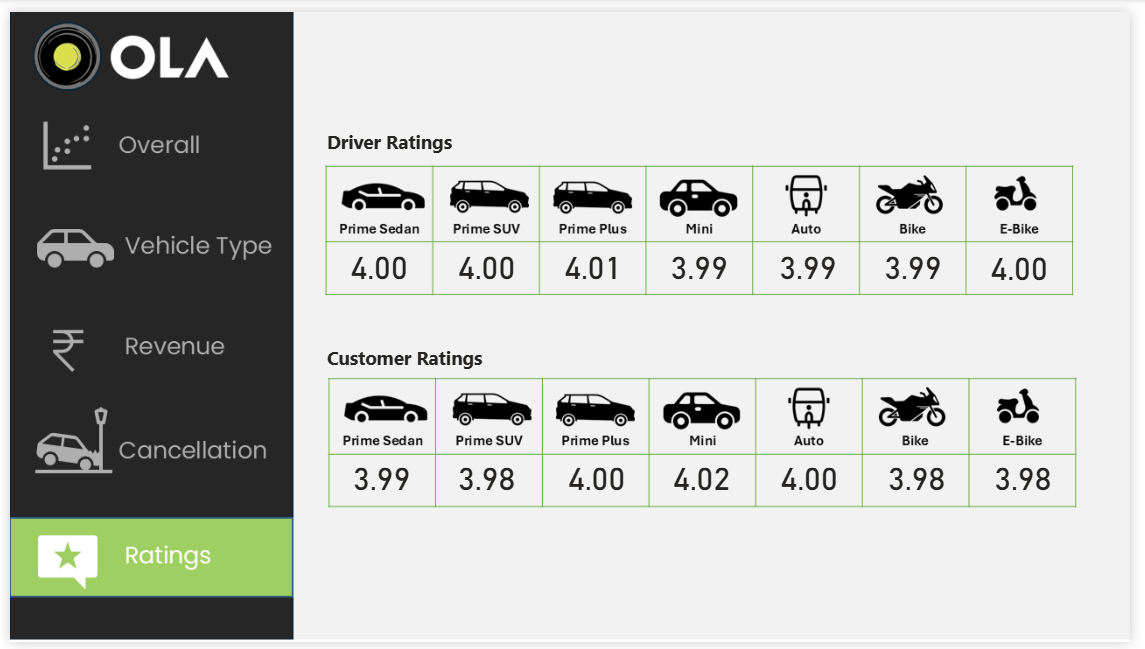

The dashboard page shown, as its layout file describes it:
{"tool":"powerbi","page":{"name":"Ratings","canvas":[1280,720],"ordinal":4},"visuals":[{"type":"actionButton","box":[0,220.8,324.5,96.5],"z":0},{"type":"actionButton","box":[0,339,324.5,96.5],"z":1000},{"type":"actionButton","box":[0,445.2,324.5,96.5],"z":2000},{"type":"actionButton","box":[0,103.8,324.5,96.5],"z":3000},{"type":"card","fields":{"Values":["Avg(July.Driver_Ratings)"]},"box":[367.5,266.7,110,54.2],"z":4000},{"type":"card","fields":{"Values":["Avg(July.Driver_Ratings)"]},"box":[490,267.5,110,54.2],"z":5000},{"type":"card","fields":{"Values":["Avg(July.Driver_Ratings)"]},"box":[611.7,267.5,110,54.2],"z":6000},{"type":"card","fields":{"Values":["Avg(July.Driver_Ratings)"]},"box":[732.5,266.7,110,54.2],"z":7000},{"type":"card","fields":{"Values":["Avg(July.Driver_Ratings)"]},"box":[856.7,266.7,110,54.2],"z":8000},{"type":"card","fields":{"Values":["Avg(July.Driver_Ratings)"]},"box":[976.7,266.7,110,54.2],"z":9000},{"type":"card","fields":{"Values":["Avg(July.Driver_Ratings)"]},"box":[1098.8,265,110,58.8],"z":10000},{"type":"card","fields":{"Values":["Avg(July.Customer_Rating)"]},"box":[370,508.8,110,52.5],"z":11000},{"type":"textbox","box":[357.5,128.8,172.5,47.5],"z":12000},{"type":"textbox","box":[357.5,376.2,230,47.5],"z":13000},{"type":"card","fields":{"Values":["Avg(July.Customer_Rating)"]},"box":[490,508.8,110,52.5],"z":14000},{"type":"card","fields":{"Values":["Avg(July.Customer_Rating)"]},"box":[615,508.8,110,52.5],"z":15000},{"type":"card","fields":{"Values":["Avg(July.Customer_Rating)"]},"box":[735,508.8,110,52.5],"z":16000},{"type":"card","fields":{"Values":["Avg(July.Customer_Rating)"]},"box":[858.8,508.8,110,52.5],"z":17000},{"type":"card","fields":{"Values":["Avg(July.Customer_Rating)"]},"box":[981.2,508.8,110,52.5],"z":18000},{"type":"card","fields":{"Values":["Avg(July.Customer_Rating)"]},"box":[1102.5,508.8,110,52.5],"z":19000}]}

Visuals, with their boxes on the page's 1280x720 design canvas (x1, y1, x2, y2). These are canvas units, not pixel positions in the 1145x649 screenshot, which may show the page scaled, cropped or inside an application window:
actionButton: l=0, t=221, r=324, b=317
actionButton: l=0, t=339, r=324, b=436
actionButton: l=0, t=445, r=324, b=542
actionButton: l=0, t=104, r=324, b=200
card - Avg(July.Driver_Ratings): l=368, t=267, r=478, b=321
card - Avg(July.Driver_Ratings): l=490, t=268, r=600, b=322
card - Avg(July.Driver_Ratings): l=612, t=268, r=722, b=322
card - Avg(July.Driver_Ratings): l=732, t=267, r=842, b=321
card - Avg(July.Driver_Ratings): l=857, t=267, r=967, b=321
card - Avg(July.Driver_Ratings): l=977, t=267, r=1087, b=321
card - Avg(July.Driver_Ratings): l=1099, t=265, r=1209, b=324
card - Avg(July.Customer_Rating): l=370, t=509, r=480, b=561
textbox: l=358, t=129, r=530, b=176
textbox: l=358, t=376, r=588, b=424
card - Avg(July.Customer_Rating): l=490, t=509, r=600, b=561
card - Avg(July.Customer_Rating): l=615, t=509, r=725, b=561
card - Avg(July.Customer_Rating): l=735, t=509, r=845, b=561
card - Avg(July.Customer_Rating): l=859, t=509, r=969, b=561
card - Avg(July.Customer_Rating): l=981, t=509, r=1091, b=561
card - Avg(July.Customer_Rating): l=1102, t=509, r=1212, b=561
